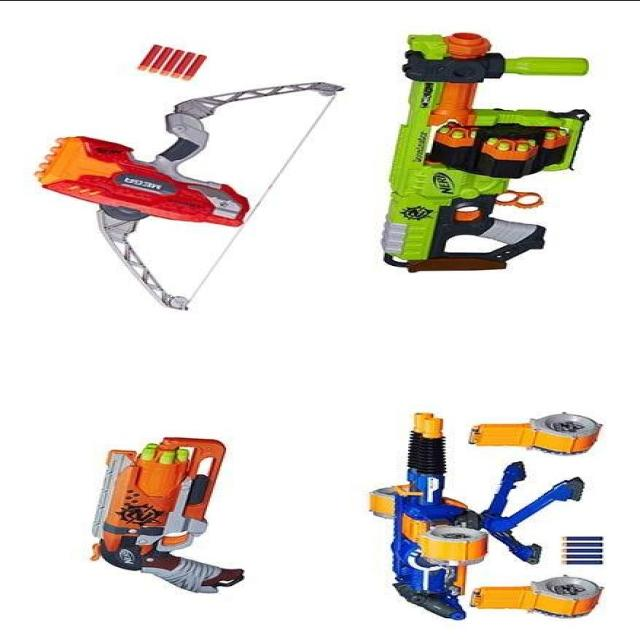Nerf gun: (27, 66, 335, 295), (361, 26, 604, 278), (363, 414, 590, 620), (80, 428, 252, 601)
